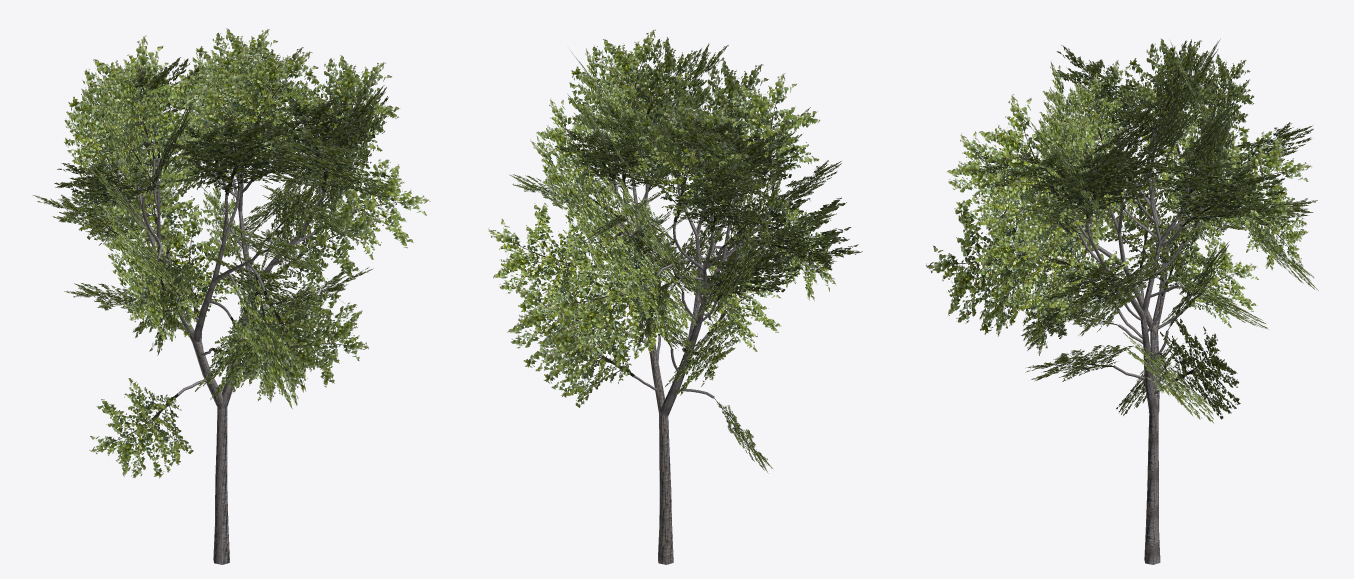
File: eucalyptus_v2.dae
The picture shows the model from 3 angles, left to right: view 1: azimuth 30°, elevation 25°; view 2: azimuth 150°, elevation 25°; view 3: azimuth 270°, elevation 25°; orthographic projection. The views are drawn at different scales.
Parts seen in each view (by area): view 1: leaves, tree; view 2: leaves, tree; view 3: leaves, tree.
Part boxes in pixels (x1,y1,x2,y2): leaves: (32,28,430,478); tree: (116,140,327,564); leaves: (488,29,862,473); tree: (607,136,772,564); leaves: (925,38,1318,423); tree: (1030,127,1240,564).
Size of the model in its own units: 15.03 by 15.78 by 20.43.
1 material, 1 textured.
